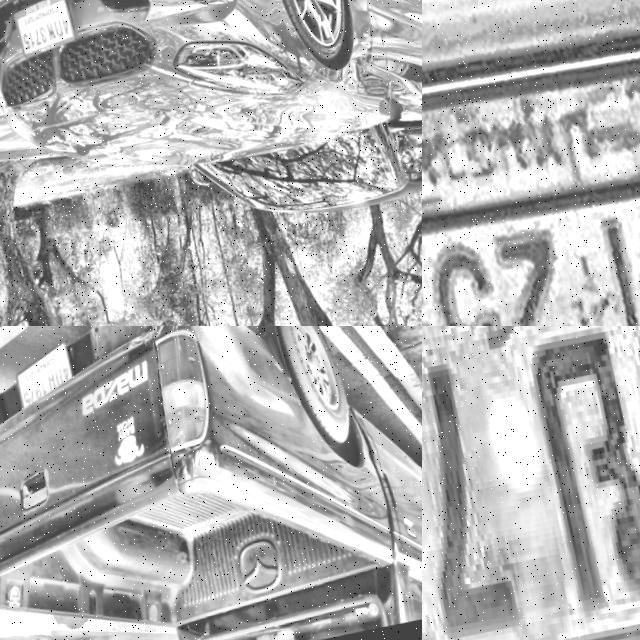license-plate: (422, 0, 640, 326), (422, 326, 640, 640), (1, 339, 76, 422), (3, 0, 75, 59)
